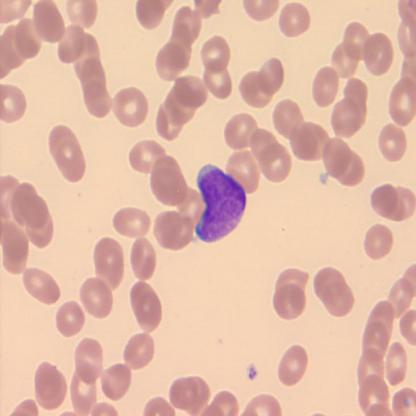Blast: (194, 159, 249, 245)
